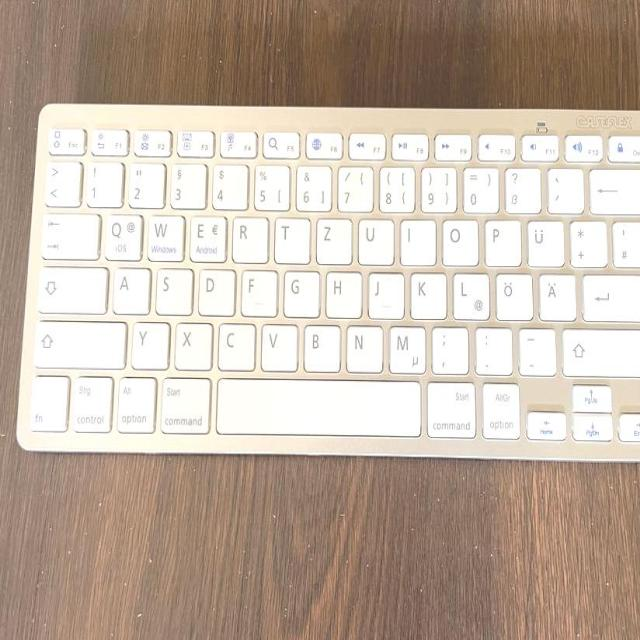0: (461, 164, 499, 211)
1: (85, 157, 122, 205)
2: (126, 159, 164, 206)
3: (168, 159, 206, 206)
4: (210, 160, 247, 207)
5: (252, 161, 289, 208)
6: (293, 162, 331, 209)
7: (335, 163, 373, 209)
8: (377, 164, 415, 210)
9: (419, 164, 457, 211)
a: (110, 264, 149, 312)
accent: (545, 164, 583, 211)
ae: (536, 270, 575, 319)
alt-left: (114, 372, 156, 432)
altgr-right: (480, 377, 520, 437)
b: (301, 321, 340, 370)
c: (215, 319, 255, 368)
caret: (43, 157, 80, 204)
comma: (428, 322, 468, 372)
d: (196, 265, 234, 314)
del: (587, 165, 640, 212)
e: (187, 210, 226, 260)
enter: (580, 270, 640, 319)
f: (238, 265, 276, 315)
g: (280, 266, 318, 315)
h: (323, 267, 360, 316)
hash: (610, 218, 640, 265)
i: (398, 215, 434, 263)
j: (366, 268, 402, 317)
k: (408, 268, 445, 317)
keyboard: (10, 95, 640, 468)
l: (451, 269, 489, 318)
m: (385, 321, 425, 372)
minus: (515, 324, 555, 374)
n: (344, 321, 382, 370)
o: (439, 214, 477, 263)
oe: (493, 269, 532, 319)
p: (482, 216, 520, 263)
plus: (567, 217, 606, 264)
point: (471, 324, 512, 373)
q: (102, 209, 143, 259)
r: (230, 212, 267, 261)
s: (153, 264, 191, 313)
shift-left: (31, 316, 127, 366)
shift-lock: (35, 262, 106, 311)
shift-right: (560, 324, 640, 375)
space: (215, 374, 420, 435)
ss: (502, 164, 540, 211)
strg-left: (71, 372, 113, 431)
t: (272, 213, 308, 261)
tab: (39, 208, 98, 256)
u: (355, 214, 392, 263)
ue: (525, 217, 563, 265)
v: (258, 320, 297, 369)
w: (146, 209, 184, 259)
x: (173, 318, 212, 368)
y: (129, 318, 168, 367)
z: (313, 214, 351, 262)
